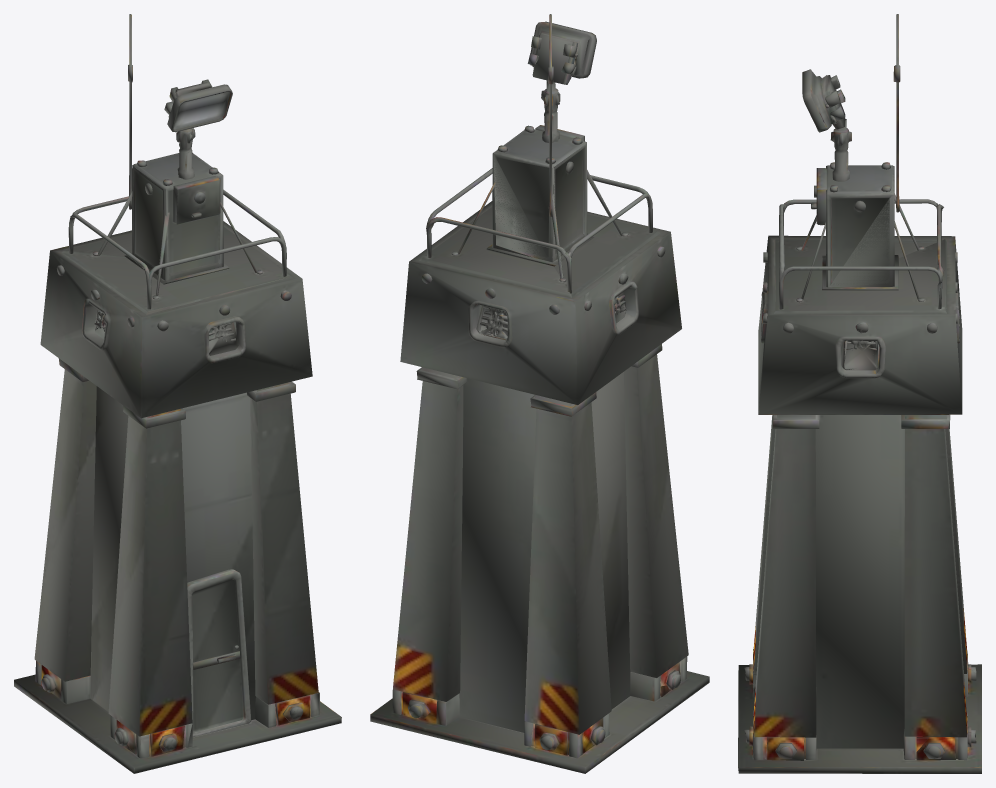
Rendered from h_gatetower.glb.
3 renders of one model, left to right at view 1: azimuth 30°, elevation 25°; view 2: azimuth 150°, elevation 25°; view 3: azimuth 270°, elevation 25°, orthographic. The views are drawn at different scales.
Size of the model in its own units: 0.3022 by 0.9517 by 0.3032.
Materials: 1 (1 with a texture image).
